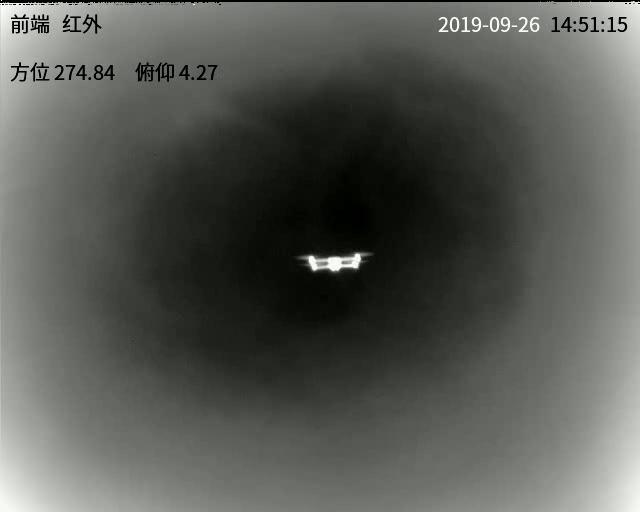DRONE: (302, 253, 367, 271)
